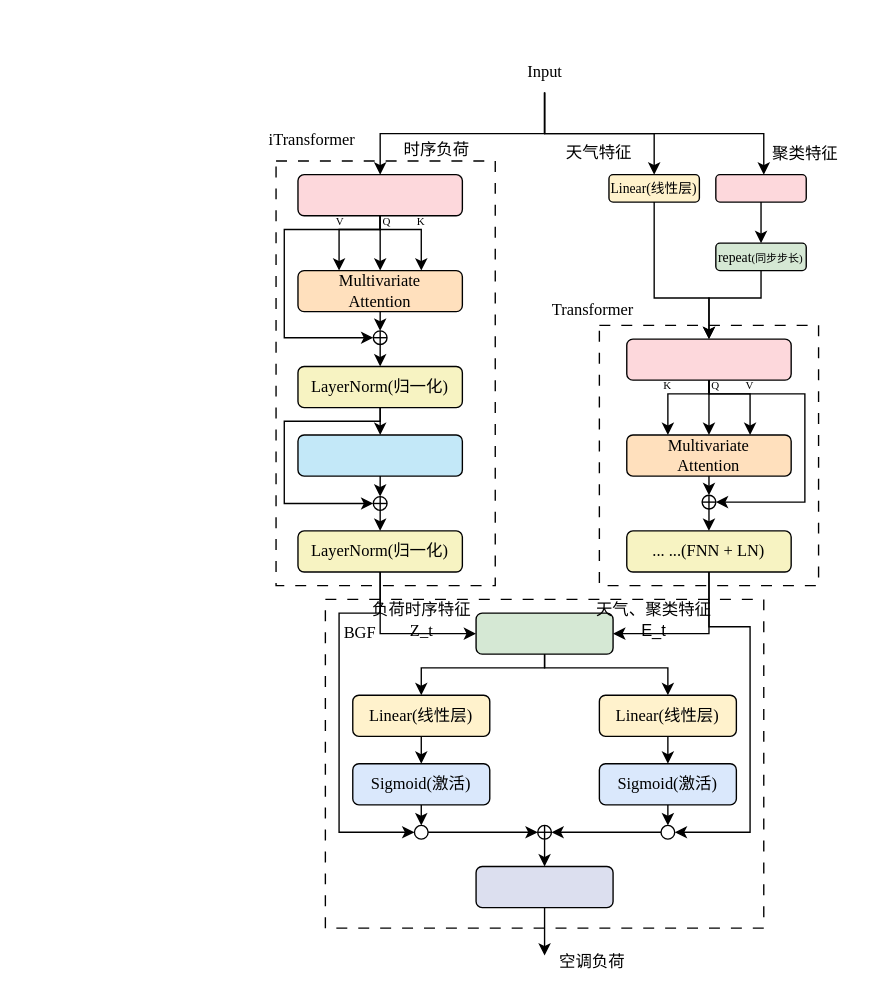
The diagram is 877 pixels wide and 1007 high, and some of its shapes have lost their labels. Each missing label, with the box of its shape:
Concat: (475, 612, 613, 654)
Decoder 解码层: (475, 865, 613, 908)
Embedding: (714, 173, 806, 202)
Encoder 编码层: (625, 338, 791, 380)
Encoder编码层(反转): (297, 173, 462, 216)
Feed-forward(类 MLP): (297, 434, 462, 476)
